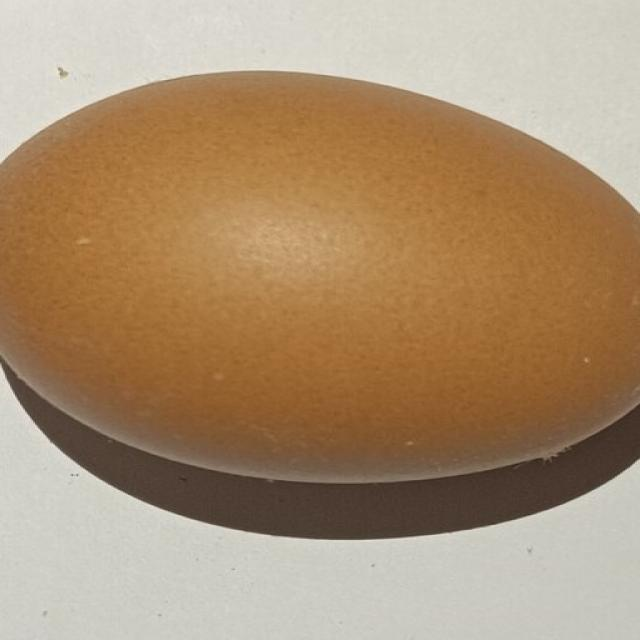fresh: (0, 63, 640, 505)
